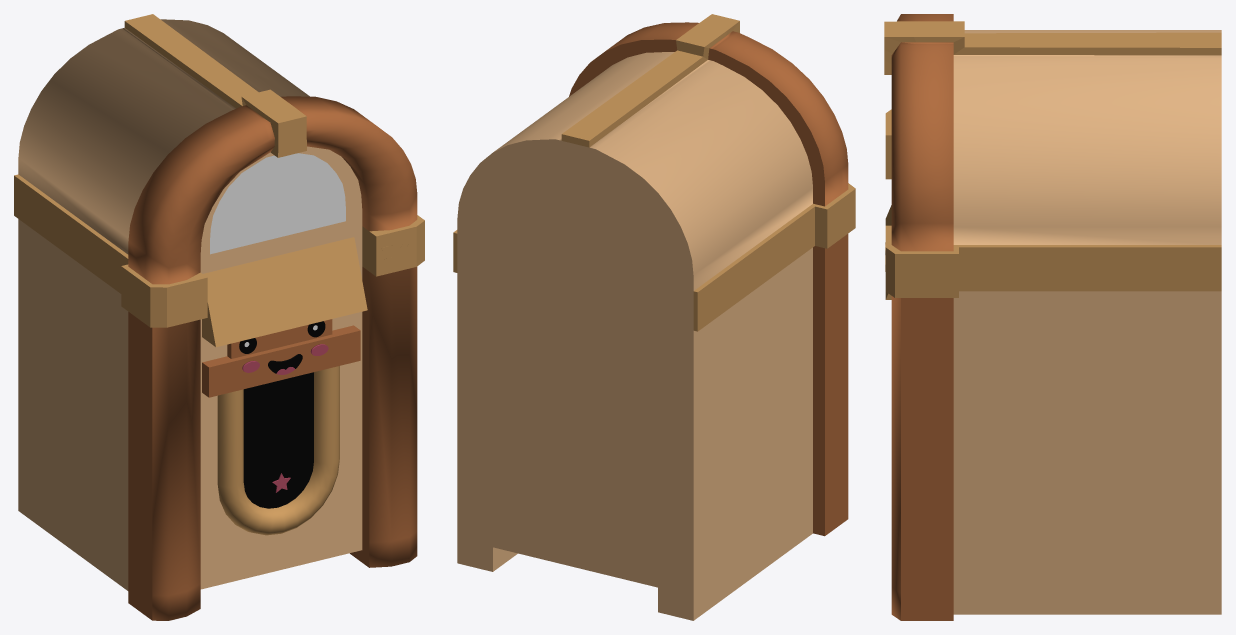
The model's file is Jukeboxy_V2.fbx.
3 views of the same model, side by side, from view 1: azimuth 30°, elevation 25°; view 2: azimuth 150°, elevation 25°; view 3: azimuth 270°, elevation 25° (orthographic). The views are drawn at different scales.
Parts seen in each view (by area): view 1: Jukeboxy; view 2: Jukeboxy; view 3: Jukeboxy.
Boxes of the visible parts, x1,y1,x2,y2 form: Jukeboxy: (14,14,424,620); Jukeboxy: (453,14,855,620); Jukeboxy: (884,14,1221,620).
Size of the model in its own units: 228 by 376 by 221.
